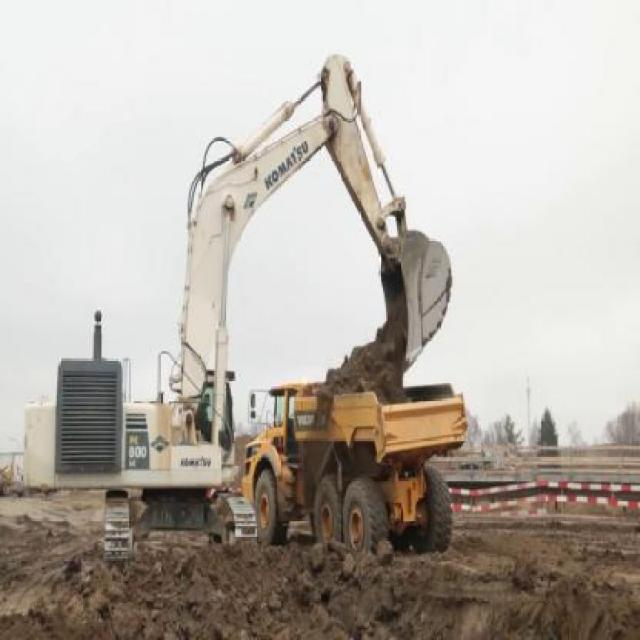Dump Truck: (242, 381, 468, 559)
Excavator: (22, 53, 452, 562)
